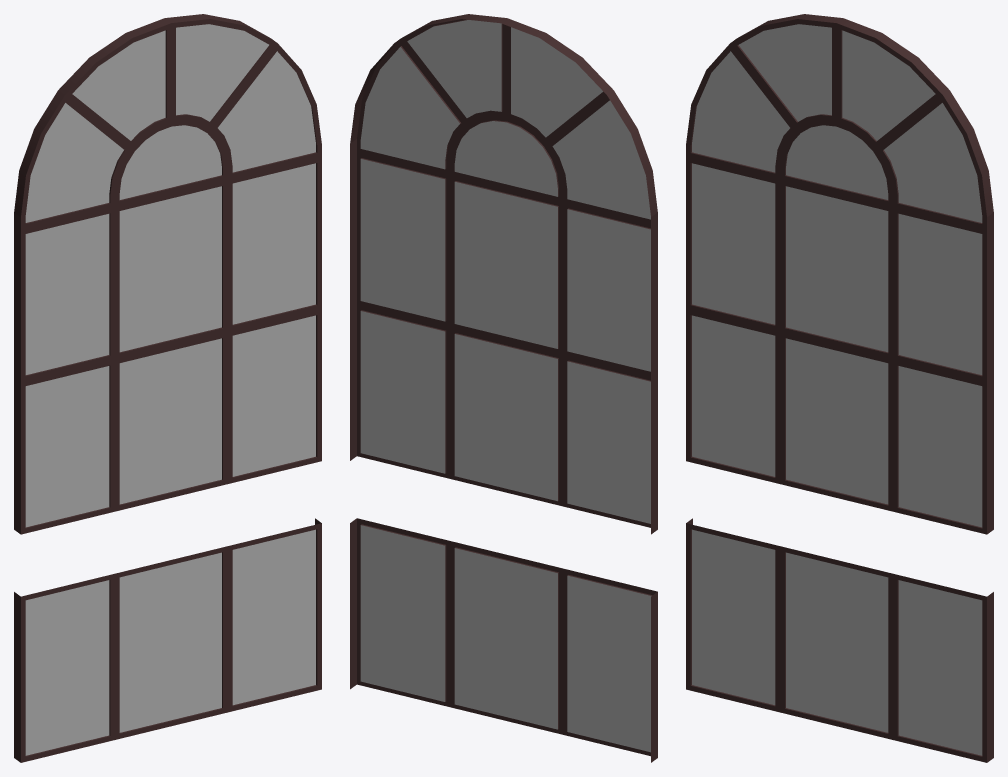
The model's file is FrontWindowBlockout.fbx.
The picture shows the model from 3 angles, left to right: view 1: azimuth 30°, elevation 25°; view 2: azimuth 150°, elevation 25°; view 3: azimuth 330°, elevation 25°; orthographic projection.
Visible parts, largest first — view 1: TopWindow, BottomWindow1; view 2: TopWindow, BottomWindow1; view 3: TopWindow, BottomWindow1.
Part boxes in pixels (x1=…): TopWindow: x1=14, y1=14, x2=321, y2=534; BottomWindow1: x1=14, y1=518, x2=321, y2=762; TopWindow: x1=350, y1=14, x2=657, y2=534; BottomWindow1: x1=350, y1=518, x2=657, y2=762; TopWindow: x1=686, y1=14, x2=993, y2=534; BottomWindow1: x1=686, y1=518, x2=993, y2=762.
Bounding box in the file's own units: 284 × 634 × 11.18.
